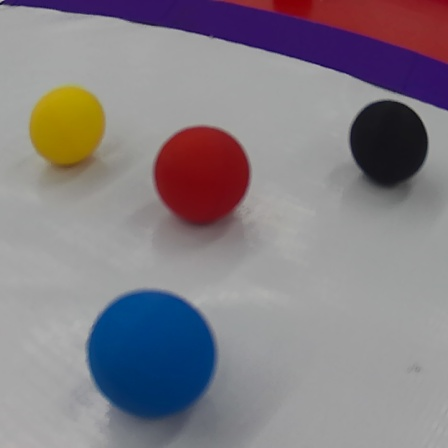black: (347, 95, 436, 183)
blue: (84, 287, 221, 419)
red: (154, 119, 268, 229)
red_aim: (0, 0, 447, 121)
yellow: (28, 81, 108, 169)
